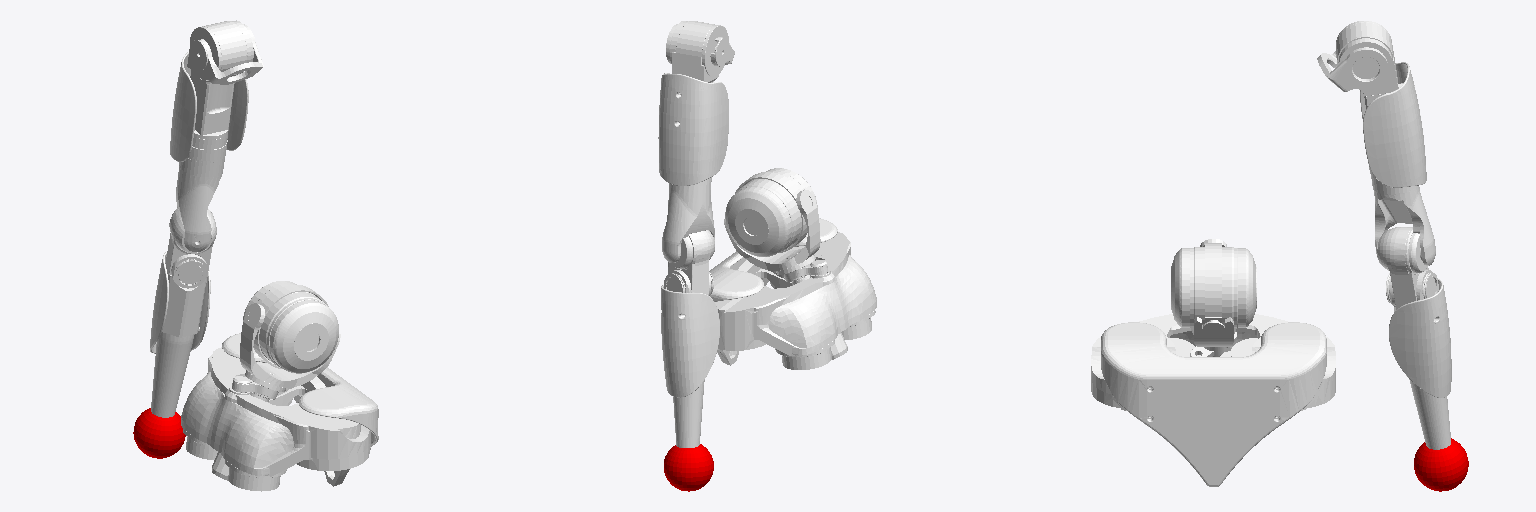
URDF robot description (converted_robot):
<?xml version="1.0" ?>
<robot name="converted_robot">
   <link name="world">
      <inertial>
         <origin xyz="0.0 0.0 0.0" rpy="0.0 0.0 0.0"/>
         <mass value="0.0"/>
         <inertia ixx="0.0" iyy="0.0" izz="0.0" ixy="0" ixz="0" iyz="0"/>
      </inertial>
   </link>
   <link name="base_link">
      <inertial>
         <origin xyz="-0.00119987 0.00043033 -0.0376466" rpy="0.06833946049465522 -0.004605925047553194 1.531357592714406"/>
         <mass value="1.38"/>
         <inertia ixx="0.00305403" iyy="0.00234908" izz="0.00110434" ixy="0" ixz="0" iyz="0"/>
      </inertial>
      <visual name="base_link">
         <origin xyz="0.011352105582858358 3.328906542996829e-05 0.0091700832454207" rpy="-1.5729887691170703 -1.5285554423632142 -3.139586074619203"/>
         <geometry>
            <mesh filename="converted_base_link.stl"/>
         </geometry>
         <material name="white"/>
      </visual>
   </link>
   <link name="world2base_link_fixed_jointbody">
      <inertial>
         <origin xyz="0.0 0.0 0.0" rpy="0.0 0.0 0.0"/>
         <mass value="0.001"/>
         <inertia ixx="1e-09" iyy="1e-09" izz="1e-09" ixy="0" ixz="0" iyz="0"/>
      </inertial>
   </link>
   <joint type="fixed" name="world2base_link_fixed">
      <parent link="world"/>
      <child link="world2base_link_fixed_jointbody"/>
      <origin xyz="0.0 0.0 0.95" rpy="0.0 0.0 0.0"/>
   </joint>
   <joint type="fixed" name="world2base_link_fixed_offset">
      <parent link="world2base_link_fixed_jointbody"/>
      <child link="base_link"/>
      <origin xyz="-0.0 -0.0 -0.0" rpy="0.0 0.0 0.0"/>
   </joint>
   <link name="torsoY_Link">
      <inertial>
         <origin xyz="-0.00119987 0.00043033 -0.0376466" rpy="0.06833946049465522 -0.004605925047553194 1.531357592714406"/>
         <mass value="1.38"/>
         <inertia ixx="0.00305403" iyy="0.00234908" izz="0.00110434" ixy="0" ixz="0" iyz="0"/>
      </inertial>
      <visual name="torsoY_Link">
         <origin xyz="0.003573847139728883 6.94109192323835e-05 0.002208358399681898" rpy="0.25648655923649044 -0.0035378728105961432 1.5557904548721861"/>
         <geometry>
            <mesh filename="converted_torsoY_Link.stl"/>
         </geometry>
         <material name="white"/>
      </visual>
   </link>
   <link name="base_link2torsoY_Link_fixed_jointbody">
      <inertial>
         <origin xyz="0.0 0.0 0.0" rpy="0.0 0.0 0.0"/>
         <mass value="0.001"/>
         <inertia ixx="1e-09" iyy="1e-09" izz="1e-09" ixy="0" ixz="0" iyz="0"/>
      </inertial>
   </link>
   <joint type="fixed" name="base_link2torsoY_Link_fixed">
      <parent link="base_link"/>
      <child link="base_link2torsoY_Link_fixed_jointbody"/>
      <origin xyz="-0.00482885444895409 0.0 0.0660668871255227" rpy="-0.0017775732069690222 0.4712359863395261 -0.003915451151678832"/>
   </joint>
   <joint type="fixed" name="base_link2torsoY_Link_fixed_offset">
      <parent link="base_link2torsoY_Link_fixed_jointbody"/>
      <child link="torsoY_Link"/>
      <origin xyz="-0.0 -0.0 -0.0" rpy="0.0 0.0 0.0"/>
   </joint>
   <link name="torsoR_Link">
      <inertial>
         <origin xyz="-0.0045593 1.65e-06 1.635e-05" rpy="1.5707963267948966 -1.5696587480221589 1.5707963267948966"/>
         <mass value="2.13"/>
         <inertia ixx="0.00250818" iyy="0.00235874" izz="0.00225394" ixy="0" ixz="0" iyz="0"/>
      </inertial>
      <visual name="torsoR_Link">
         <origin xyz="-0.00013014065822800134 4.601207943567218e-09 -1.417484730904306e-07" rpy="-0.4319665239960411 -1.5707287056020485 2.0026180031006895"/>
         <geometry>
            <mesh filename="converted_torsoR_Link.stl"/>
         </geometry>
         <material name="white"/>
      </visual>
   </link>
   <link name="torsoY_Link2torsoR_Link_fixed_jointbody">
      <inertial>
         <origin xyz="0.0 0.0 0.0" rpy="0.0 0.0 0.0"/>
         <mass value="0.001"/>
         <inertia ixx="1e-09" iyy="1e-09" izz="1e-09" ixy="0" ixz="0" iyz="0"/>
      </inertial>
   </link>
   <joint type="fixed" name="torsoY_Link2torsoR_Link_fixed">
      <parent link="torsoY_Link"/>
      <child link="torsoY_Link2torsoR_Link_fixed_jointbody"/>
      <origin xyz="0.00223949 0.0 0.057" rpy="0.0 0.0 0.003488683438998014"/>
   </joint>
   <joint type="fixed" name="torsoY_Link2torsoR_Link_fixed_offset">
      <parent link="torsoY_Link2torsoR_Link_fixed_jointbody"/>
      <child link="torsoR_Link"/>
      <origin xyz="-0.0 -0.0 -0.0" rpy="0.0 0.0 0.0"/>
   </joint>
   <link name="torsoP_Link">
      <inertial>
         <origin xyz="0.0 0.00060318 0.187298" rpy="0.0 0.0 0.0"/>
         <mass value="9.46"/>
         <inertia ixx="0.102012" iyy="0.0825985" izz="0.0559009" ixy="0" ixz="0" iyz="0"/>
      </inertial>
      <visual name="torsoP_Link">
         <origin xyz="0.015060497677703427 0.0014782477323562766 0.18005305733134516" rpy="-0.100778531765449 -0.2546445398788517 -0.0023014120067339078"/>
         <geometry>
            <mesh filename="converted_torsoP_Link.stl"/>
         </geometry>
         <material name="white"/>
      </visual>
   </link>
   <link name="torsoR_Link2torsoP_Link_fixed_jointbody">
      <inertial>
         <origin xyz="0.0 0.0 0.0" rpy="0.0 0.0 0.0"/>
         <mass value="0.001"/>
         <inertia ixx="1e-09" iyy="1e-09" izz="1e-09" ixy="0" ixz="0" iyz="0"/>
      </inertial>
   </link>
   <joint type="fixed" name="torsoR_Link2torsoP_Link_fixed">
      <parent link="torsoR_Link"/>
      <child link="torsoR_Link2torsoP_Link_fixed_jointbody"/>
      <origin xyz="0.0 0.0 0.0" rpy="0.0 -0.4712362085273176 0.0"/>
   </joint>
   <joint type="fixed" name="torsoR_Link2torsoP_Link_fixed_offset">
      <parent link="torsoR_Link2torsoP_Link_fixed_jointbody"/>
      <child link="torsoP_Link"/>
      <origin xyz="-0.0 -0.0 -0.0" rpy="0.0 0.0 0.0"/>
   </joint>
   <link name="L_shoulderY_Link">
      <inertial>
         <origin xyz="0.00138896 0.00748738 0.0246109" rpy="0.9942736550585395 0.4532471910980007 1.534855562266411"/>
         <mass value="0.064"/>
         <inertia ixx="3.6238e-05" iyy="2.83656e-05" izz="2.55964e-05" ixy="0" ixz="0" iyz="0"/>
      </inertial>
      <visual name="L_shoulderY_Link">
         <origin xyz="0.003186508032270655 0.0057967803188059665 0.022173240203647308" rpy="1.1800128371906107 0.45090753220161384 1.5161405627784892"/>
         <geometry>
            <mesh filename="converted_L_shoulderY_Link.stl"/>
         </geometry>
         <material name="white"/>
      </visual>
   </link>
   <link name="arm_left_humeraly_jointbody">
      <inertial>
         <origin xyz="0.0 0.0 0.0" rpy="0.0 0.0 0.0"/>
         <mass value="0.001"/>
         <inertia ixx="1e-09" iyy="1e-09" izz="1e-09" ixy="0" ixz="0" iyz="0"/>
      </inertial>
   </link>
   <joint type="revolute" name="arm_left_humeraly">
      <parent link="torsoP_Link"/>
      <child link="arm_left_humeraly_jointbody"/>
      <origin xyz="0.00679205 0.130034 0.260803" rpy="-0.7732662477156418 0.04366415754990394 0.04469262519054962"/>
      <axis xyz="0.0 0.0 -1.0"/>
      <limit lower="-1.2" upper="2.3" effort="100" velocity="100"/>
   </joint>
   <joint type="fixed" name="arm_left_humeraly_offset">
      <parent link="arm_left_humeraly_jointbody"/>
      <child link="L_shoulderY_Link"/>
      <origin xyz="-0.0 -0.0 -0.0" rpy="0.0 0.0 0.0"/>
   </joint>
   <link name="L_shoulderR_Link">
      <inertial>
         <origin xyz="-0.00168235 0.0303773 -0.00596837" rpy="-0.15054556832541777 -1.2392590329566646 1.7110315112722976"/>
         <mass value="0.77"/>
         <inertia ixx="0.00205003" iyy="0.00201329" izz="0.000520217" ixy="0" ixz="0" iyz="0"/>
      </inertial>
      <visual name="L_shoulderR_Link">
         <origin xyz="-0.00030426808829509753 0.046777219991955714 -0.00988308619260718" rpy="-0.04152237200071085 -1.328841931882124 1.5792663160445346"/>
         <geometry>
            <mesh filename="converted_L_shoulderR_Link.stl"/>
         </geometry>
         <material name="white"/>
      </visual>
   </link>
   <link name="arm_left_humeralr_jointbody">
      <inertial>
         <origin xyz="0.0 0.0 0.0" rpy="0.0 0.0 0.0"/>
         <mass value="0.001"/>
         <inertia ixx="1e-09" iyy="1e-09" izz="1e-09" ixy="0" ixz="0" iyz="0"/>
      </inertial>
   </link>
   <joint type="revolute" name="arm_left_humeralr">
      <parent link="L_shoulderY_Link"/>
      <child link="arm_left_humeralr_jointbody"/>
      <origin xyz="-0.00184029 0.011 0.038" rpy="-0.18725528931084406 0.0 0.0"/>
      <axis xyz="1.0 0.0 0.0"/>
      <limit lower="-0.15" upper="1.0" effort="100" velocity="100"/>
   </joint>
   <joint type="fixed" name="arm_left_humeralr_offset">
      <parent link="arm_left_humeralr_jointbody"/>
      <child link="L_shoulderR_Link"/>
      <origin xyz="-0.0 -0.0 -0.0" rpy="0.0 0.0 0.0"/>
   </joint>
   <link name="L_elbowY_Link">
      <inertial>
         <origin xyz="-0.00070115 0.00079643 -0.0602248" rpy="-9.037574639880752e-05 -0.004751680151946713 1.327215257251984"/>
         <mass value="0.673"/>
         <inertia ixx="0.00125624" iyy="0.00118658" izz="0.000254297" ixy="0" ixz="0" iyz="0"/>
      </inertial>
      <visual name="L_elbowY_Link">
         <origin xyz="0.0008982149790736075 0.0008811478588799536 -0.046316303524816964" rpy="-0.0341221851668253 -0.03803484902086707 1.3270485624845514"/>
         <geometry>
            <mesh filename="converted_L_elbowY_Link.stl"/>
         </geometry>
         <material name="white"/>
      </visual>
   </link>
   <link name="arm_left_wristr_jointbody">
      <inertial>
         <origin xyz="0.0 0.0 0.0" rpy="0.0 0.0 0.0"/>
         <mass value="0.001"/>
         <inertia ixx="1e-09" iyy="1e-09" izz="1e-09" ixy="0" ixz="0" iyz="0"/>
      </inertial>
   </link>
   <joint type="revolute" name="arm_left_wristr">
      <parent link="L_shoulderR_Link"/>
      <child link="arm_left_wristr_jointbody"/>
      <origin xyz="0.0009 0.109108 -0.0422899" rpy="0.3003809268729311 -1.0741886918792272 1.2320639086929173"/>
      <axis xyz="0.0 0.0 1.0"/>
      <limit lower="0.0" upper="1.0" effort="100" velocity="100"/>
   </joint>
   <joint type="fixed" name="arm_left_wristr_offset">
      <parent link="arm_left_wristr_jointbody"/>
      <child link="L_elbowY_Link"/>
      <origin xyz="-0.0 -0.0 -0.0" rpy="0.0 0.0 0.0"/>
   </joint>
   <link name="L_elbowR_Link">
      <inertial>
         <origin xyz="0.0010561 0.00010278 -0.0528535" rpy="0.002763223478928434 0.0001124041554096955 1.6411724273813362"/>
         <mass value="1.373"/>
         <inertia ixx="0.0100972" iyy="0.0100662" izz="0.000581097" ixy="0" ixz="0" iyz="0"/>
      </inertial>
      <visual name="L_elbowR_Link">
         <origin xyz="0.00257844654020576 0.00019474754596149083 -0.09254701096086188" rpy="-0.016015522880670985 -0.0021215761780701836 1.4637578774313855"/>
         <geometry>
            <mesh filename="converted_L_elbowR_Link.stl"/>
         </geometry>
         <material name="white"/>
      </visual>
   </link>
   <link name="arm_left_wristr1_jointbody">
      <inertial>
         <origin xyz="0.0 0.0 0.0" rpy="0.0 0.0 0.0"/>
         <mass value="0.001"/>
         <inertia ixx="1e-09" iyy="1e-09" izz="1e-09" ixy="0" ixz="0" iyz="0"/>
      </inertial>
   </link>
   <joint type="revolute" name="arm_left_wristr1">
      <parent link="L_elbowY_Link"/>
      <child link="arm_left_wristr1_jointbody"/>
      <origin xyz="-0.00155284 0.000385608 -0.1267" rpy="0.03300723674088776 -5.824164928114328e-09 -0.2434015634318332"/>
      <axis xyz="-1.0 0.0 0.0"/>
      <limit lower="-0.0" upper="1.0" effort="100" velocity="100"/>
   </joint>
   <joint type="fixed" name="arm_left_wristr1_offset">
      <parent link="arm_left_wristr1_jointbody"/>
      <child link="L_elbowR_Link"/>
      <origin xyz="-0.0 -0.0 -0.0" rpy="0.0 0.0 0.0"/>
   </joint>
   <material name="white">
      <color rgba="1 1 1 1"/>
   </material>
   <!-- Parent link (assuming it exists) -->

<!-- End-effector (eef) link -->
<link name="eef">
    <visual>
        <origin xyz="0 0 0" rpy="0 0 0"/>
        <geometry>
            <sphere radius="0.03"/>
        </geometry>
        <material name="red_transparent">
            <color rgba="1 0 0 0.1"/>
        </material>
    </visual>
    <collision>
        <origin xyz="0 0 0" rpy="0 0 0"/>
        <geometry>
            <sphere radius="0.03"/>
        </geometry>
    </collision>
</link>

<!-- Joint connecting the parent link to the eef link -->
<joint name="parent_to_eef_joint" type="fixed">
    <parent link="L_elbowR_Link"/>
    <child link="eef"/>
    <origin xyz="0 0 -0.27" rpy="0 0 0"/>
</joint>
<frame name="eef_frame" link="eef" />
</robot>

--- Facts derived from the render (not from the file) ---
Views: 3 orthographic renders of the robot side by side, from view 1: azimuth 30°, elevation 25°; view 2: azimuth 150°, elevation 25°; view 3: azimuth 270°, elevation 25°.
Model converted_robot with 18 links and 17 joints (4 revolute, 13 fixed), rooted at world, posed every joint at zero.
Visible links, largest first — view 1: base_link, L_elbowR_Link, L_shoulderR_Link, torsoR_Link, L_elbowY_Link, torsoY_Link, eef, L_shoulderY_Link; view 2: base_link, L_shoulderR_Link, L_elbowR_Link, torsoR_Link, L_elbowY_Link, torsoY_Link, eef; view 3: base_link, L_elbowR_Link, L_shoulderR_Link, torsoR_Link, L_elbowY_Link, eef, L_shoulderY_Link, torsoY_Link.
Boxes of the visible links, x1,y1,x2,y2 form: base_link: (181,333,378,491); L_elbowR_Link: (150,208,216,417); L_shoulderR_Link: (170,20,253,161); torsoR_Link: (243,281,338,373); L_elbowY_Link: (176,134,227,251); torsoY_Link: (240,303,340,401); eef: (133,408,185,458); L_shoulderY_Link: (199,24,263,84); base_link: (709,218,876,369); L_shoulderR_Link: (658,21,729,185); L_elbowR_Link: (661,230,719,447); torsoR_Link: (725,168,817,256); L_elbowY_Link: (662,177,714,262); torsoY_Link: (724,190,820,284); eef: (664,444,713,491); base_link: (1091,314,1335,486); L_elbowR_Link: (1377,227,1451,449); L_shoulderR_Link: (1336,21,1426,187); torsoR_Link: (1171,243,1256,336); L_elbowY_Link: (1369,167,1435,265); eef: (1414,438,1468,491); L_shoulderY_Link: (1317,47,1387,91); torsoY_Link: (1190,239,1236,356).
Size in the robot's own frame: 0.1709 by 0.4104 by 0.5673 metres.
7 mesh visuals loaded from 8 distinct referenced files (7 binary STL); not drawn: 1 (reference not matched to a file when rendering).